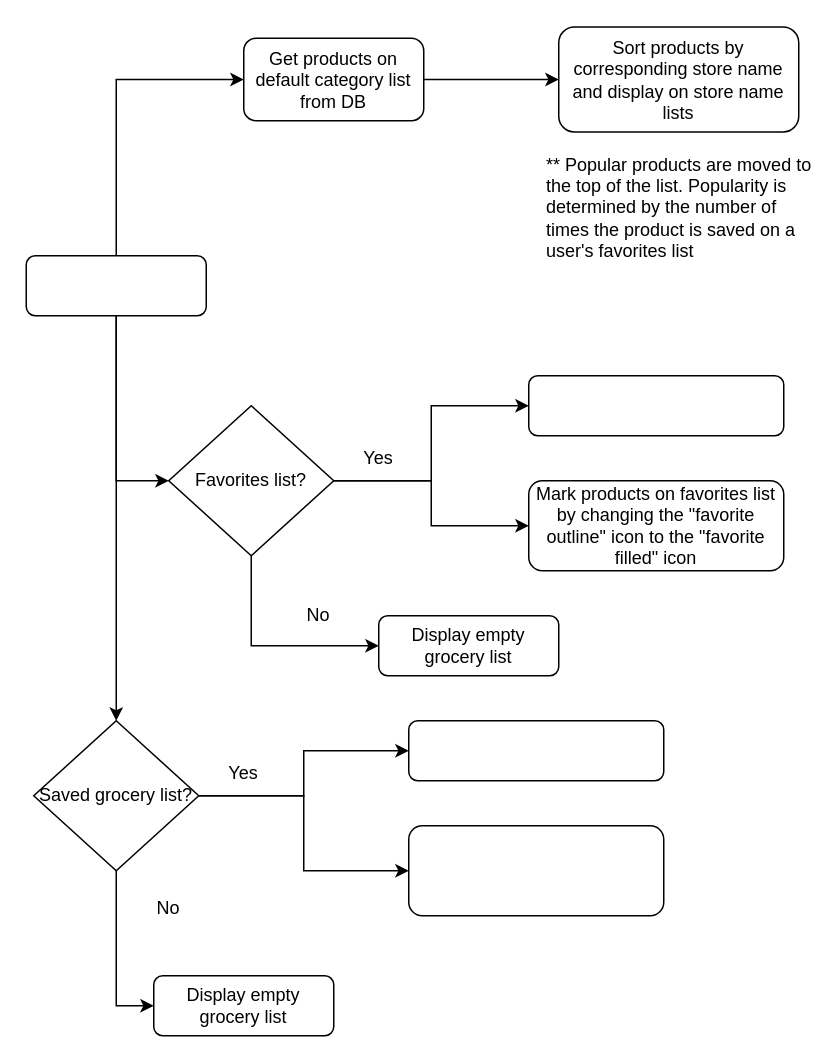
The diagram is 840 pixels wide and 1062 high, and some of its shapes have lost their labels. The shapes that lost their labels are listed below. From the top down, each one's box as (x1, y1, x2, y2) in pixels, then its label:
(25, 254, 206, 316): Load Page
(527, 374, 784, 436): Display favorites list
(407, 719, 664, 781): Display saved grocery list
(407, 824, 664, 916): Mark products on grocery list by changing the "add" icon to the "remove" icon
